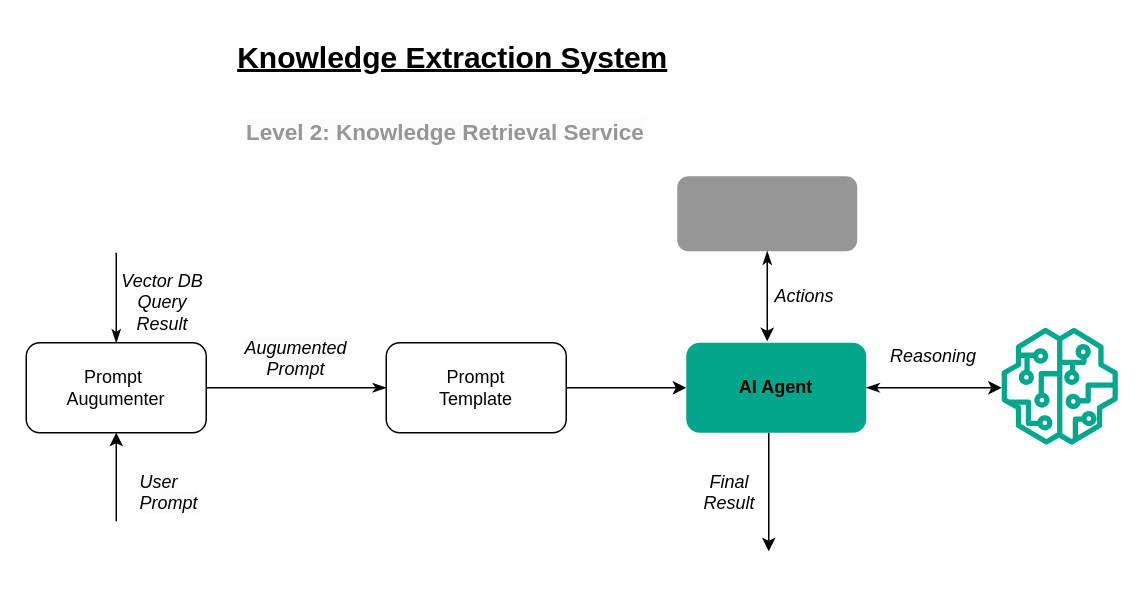
Image size: 1145x590. Some labels were removed from this diagram. The centre of each missing label's shape, as x and y in pixels:
LLM: (x=1059, y=385)
Tools: (x=766, y=213)
